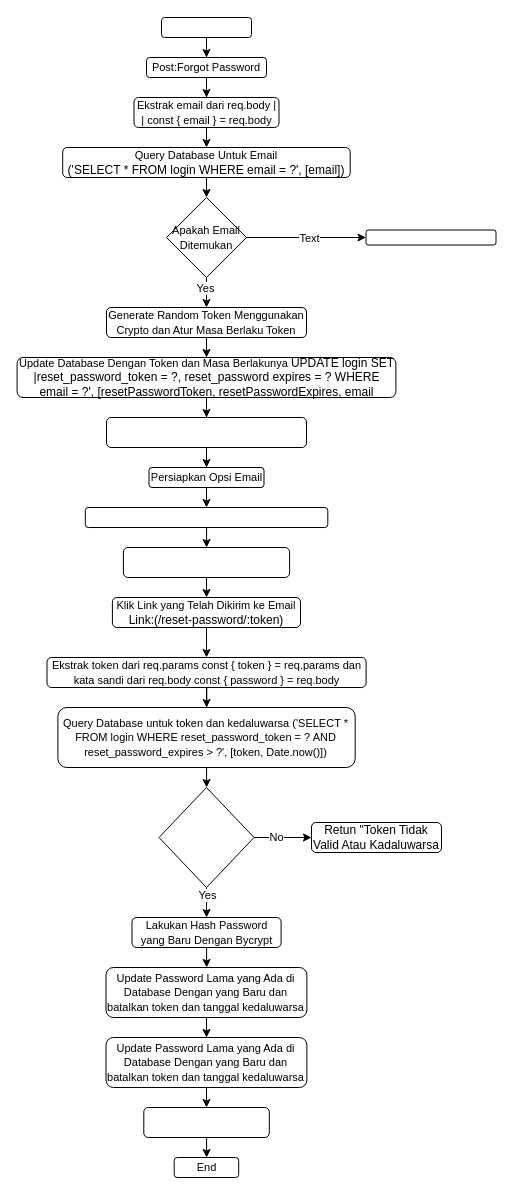
Image size: 514x1195. Some labels were removed from this diagram. The box of each missing label's shape, as (x1, y1, x2, y2) in pixels:
Apakah Token Valid dan Masih Berlaku: (158, 786, 254, 888)
Buat Transport Untuk Nodemailer berupa isi Email dan Link beserta token: (106, 416, 306, 448)
Kirim Email ke Tujuan Menggunakan Nodemailer: (84, 506, 328, 528)
Lupa Password: (160, 16, 252, 38)
Return "Email Not Found": (365, 229, 496, 245)
Return Succes Message (Email Telah Berhasil Dikirimke Tujuan: (122, 546, 290, 578)
Return Succes Message Response.Status(200): (143, 1106, 269, 1138)
